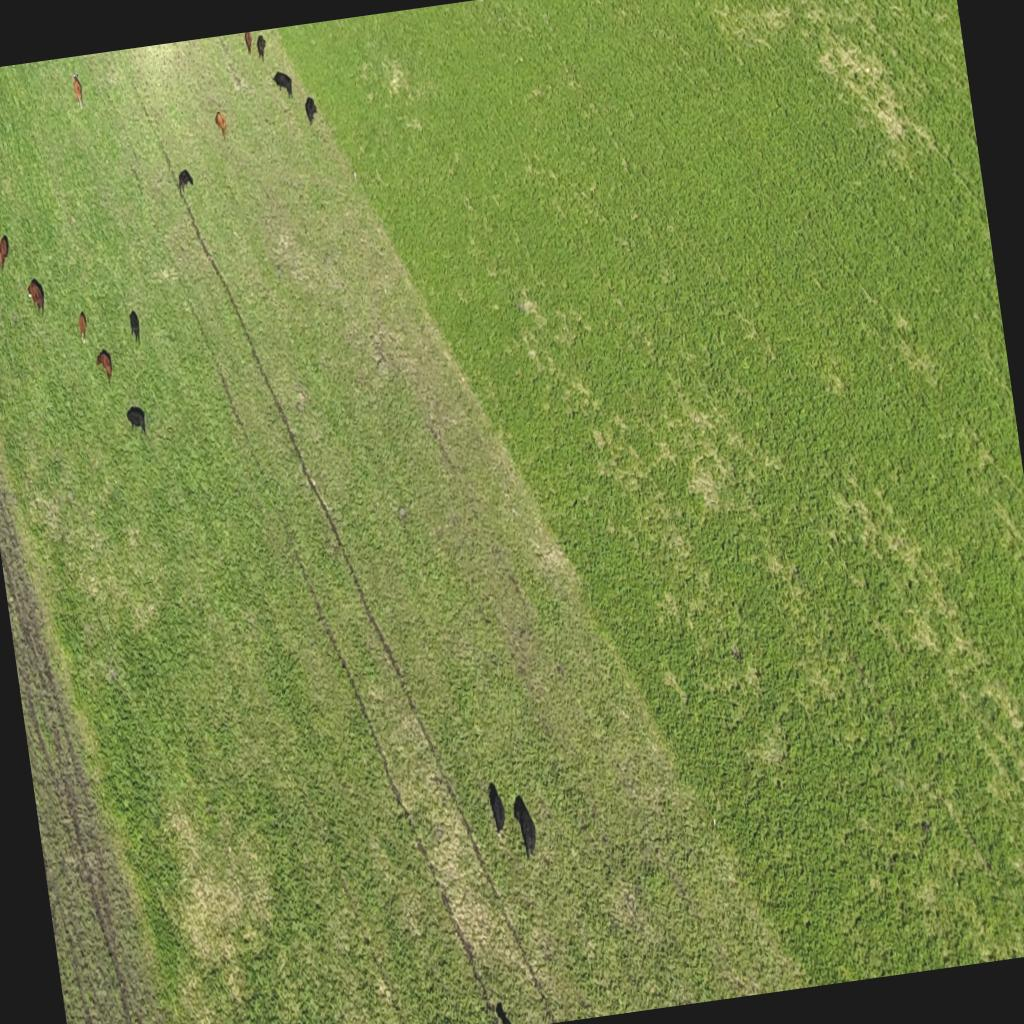cow: (510, 791, 540, 856), (486, 780, 509, 838), (26, 278, 47, 318), (94, 349, 116, 385), (125, 405, 148, 438), (272, 70, 294, 100), (70, 72, 84, 111), (128, 309, 142, 346), (0, 234, 13, 273), (213, 108, 229, 138), (76, 310, 90, 344), (304, 95, 319, 125), (176, 168, 194, 192), (254, 34, 268, 62), (244, 32, 255, 54)
